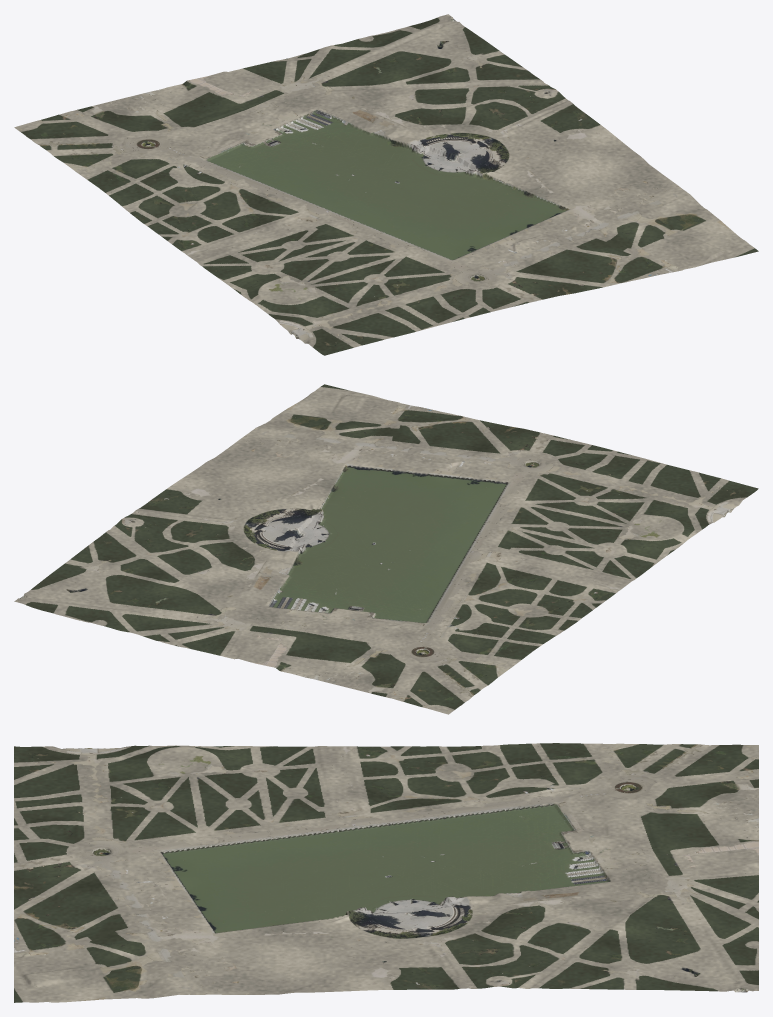
Rendered from terreno_piloto.glb.
The picture shows the model from 3 angles, top to bottom: view 1: azimuth 30°, elevation 25°; view 2: azimuth 150°, elevation 25°; view 3: azimuth 270°, elevation 25°; orthographic projection. The views are drawn at different scales.
Visible parts, largest first — view 1: Web_Terreno_Piloto; view 2: Web_Terreno_Piloto; view 3: Web_Terreno_Piloto.
Boxes of the visible parts, bbox=[...] form: Web_Terreno_Piloto: bbox=[14, 14, 758, 355]; Web_Terreno_Piloto: bbox=[14, 384, 758, 714]; Web_Terreno_Piloto: bbox=[14, 743, 758, 1002].
Size of the model in its own units: 409 by 14.54 by 506.
4 materials, 4 textured.
